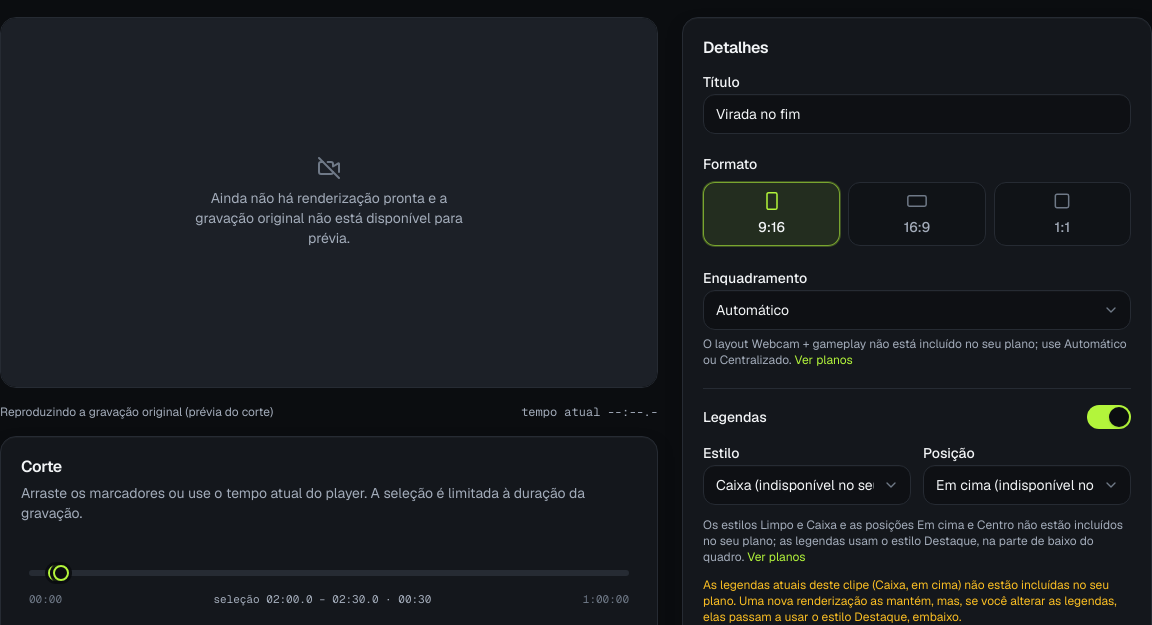
Test: ClipEditorPage subtitles and the plan › explains subtitles the plan no longer includes and, after saving, shows what the API stored instead of staying dirty
This screenshot has width=1152, height=625.
Expected: the text "As legendas atuais deste clipe (Caixa, em cima) não estão incluídas no seu plano" is shown, [703,576,1131,624]
Expected: the dropdown labelled "Posição" shows "Em cima (indisponível no seu plano)", [923,464,1131,504]
Step 1. Select "Destaque" in the dropdown labelled "Estilo" → (807, 484), box [703,464,911,504]
(page scrolled)
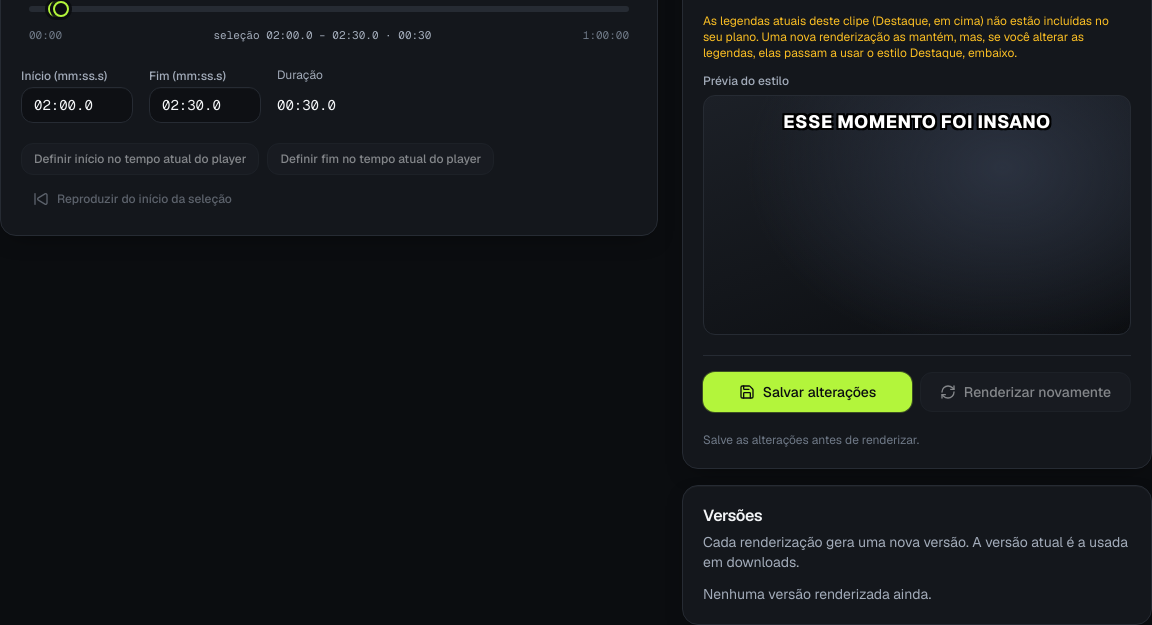
Now the button "Salvar alterações" is enabled
Step 2. Click the button "Salvar alterações" → (808, 392), box [703,372,912,412]
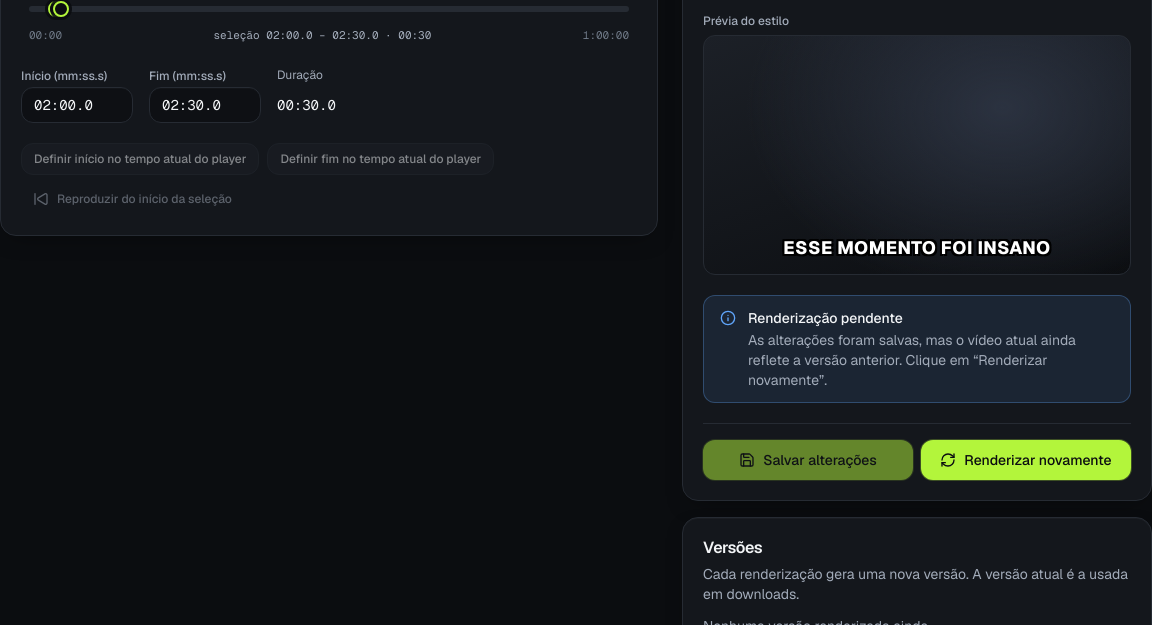
Now the button "Salvar alterações" is disabled, box [703,440,913,480]
Now the text "Salve as alterações antes de renderizar." is gone
Now the text "As legendas atuais deste clipe" is gone
